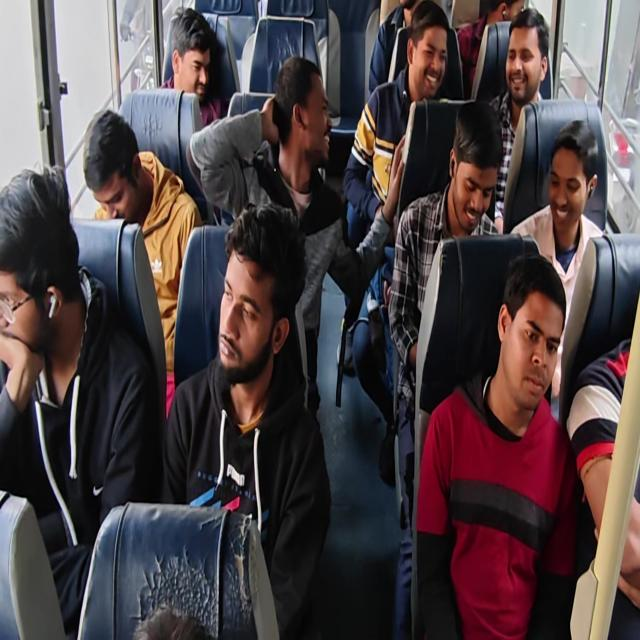person: (472, 248, 566, 422), (0, 185, 77, 360), (211, 241, 272, 387), (88, 115, 142, 232), (269, 83, 336, 173), (440, 139, 500, 233), (158, 15, 218, 101), (548, 137, 598, 232), (506, 20, 544, 97), (412, 26, 449, 103), (485, 0, 528, 35), (386, 0, 434, 20)
